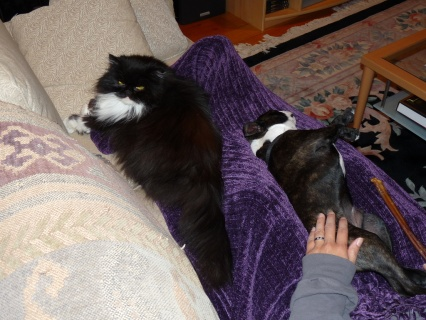Cat: (69, 52, 246, 282)
